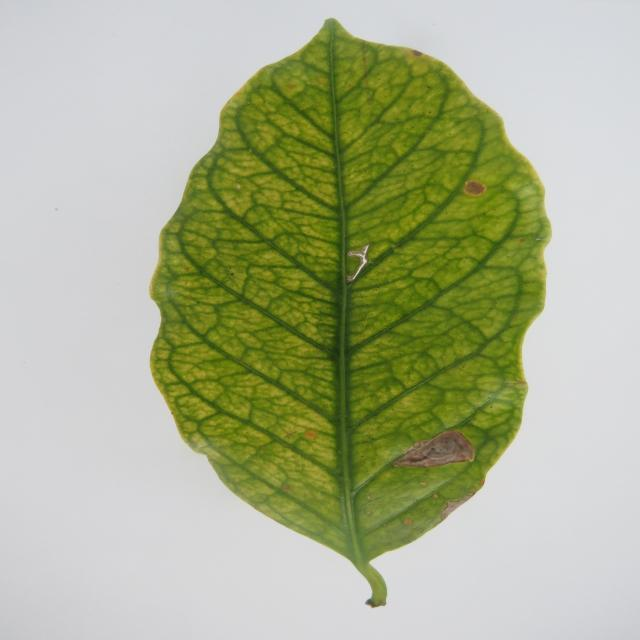DeficienciaNutricional-Hierro: (149, 22, 545, 607)
